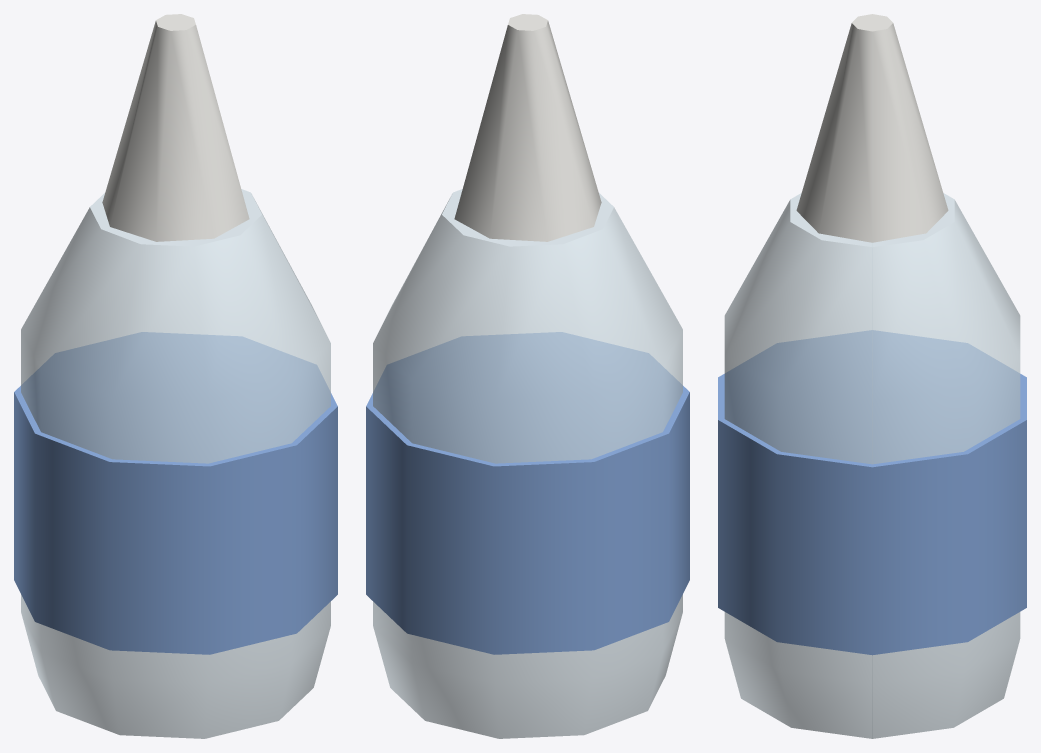
File: eye_drops.glb
3 views of the same model, side by side, from view 1: azimuth 30°, elevation 25°; view 2: azimuth 150°, elevation 25°; view 3: azimuth 270°, elevation 25° (orthographic).
Parts seen in each view (by area): view 1: root; view 2: root; view 3: root.
Part boxes in pixels (<box>): root: <box>14,14,337,738</box>; root: <box>366,14,689,738</box>; root: <box>718,14,1026,738</box>.
Size of the model in its own units: 0.094 by 0.21 by 0.0894.
